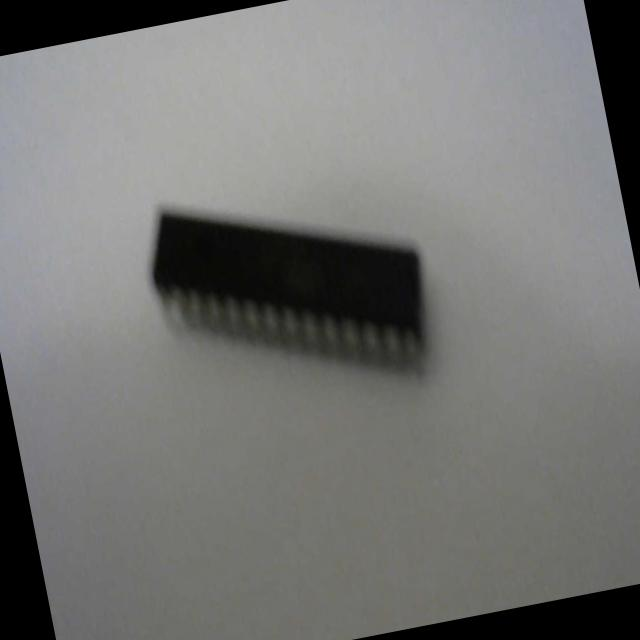atmega: (135, 154, 445, 424)
